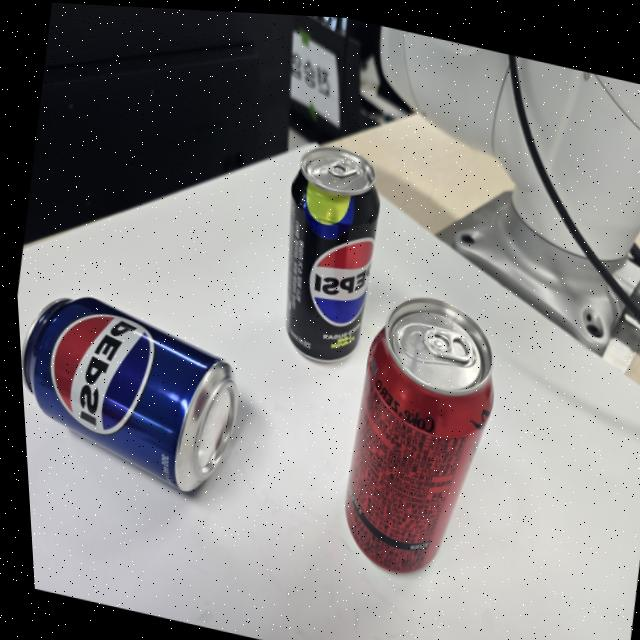can_coke_zero: (346, 298, 492, 572)
can_pepsi: (21, 297, 238, 491)
can_pepsi_zero: (286, 147, 379, 361)
